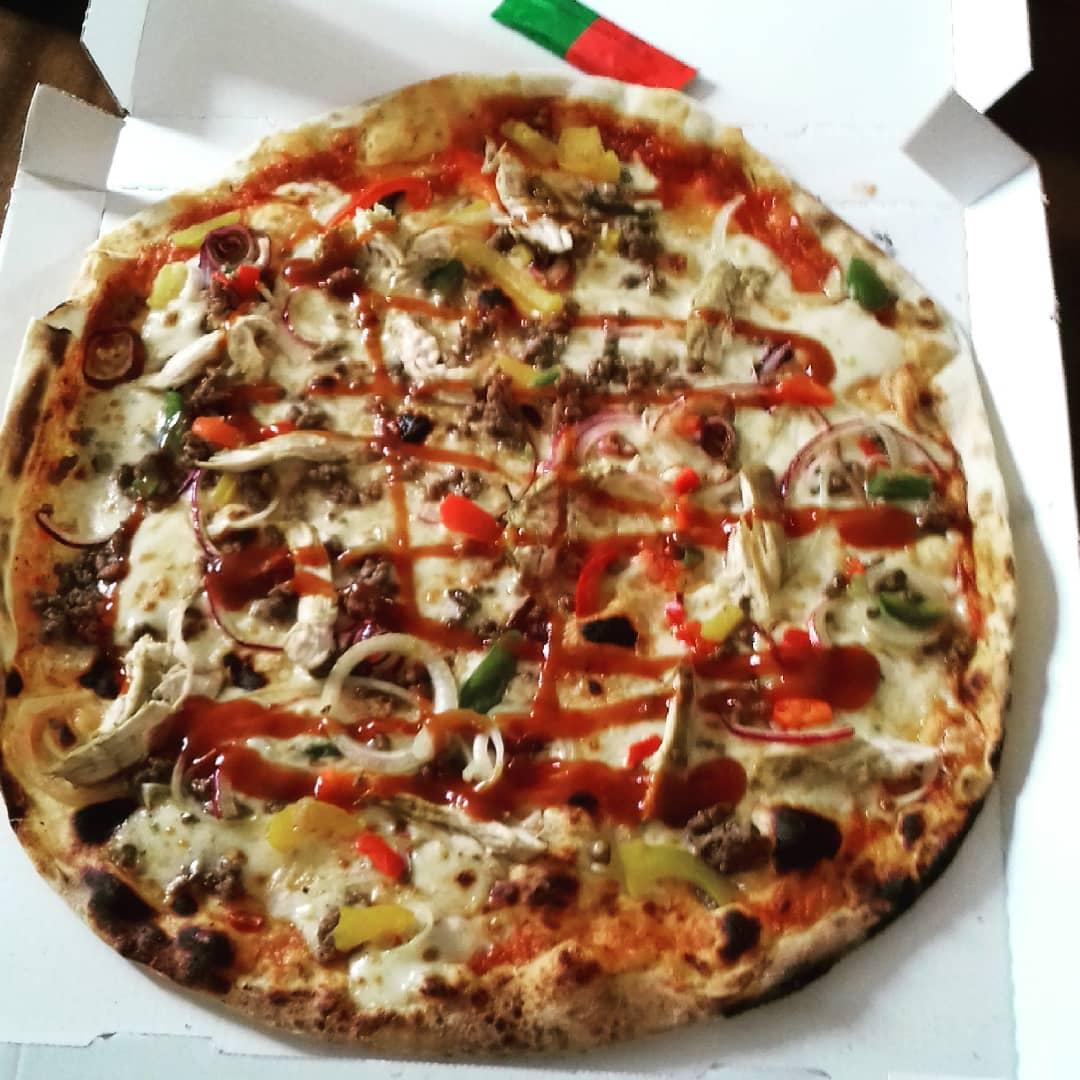Onion: (323, 635, 457, 769), (785, 420, 943, 510), (185, 471, 230, 644), (715, 704, 858, 744), (575, 410, 652, 469)
Pizza: (17, 83, 1017, 1048)
